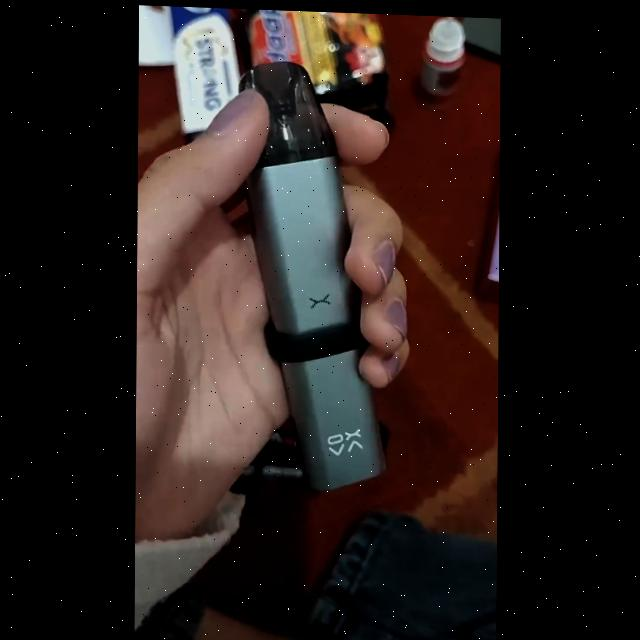vape: (239, 56, 392, 496)
